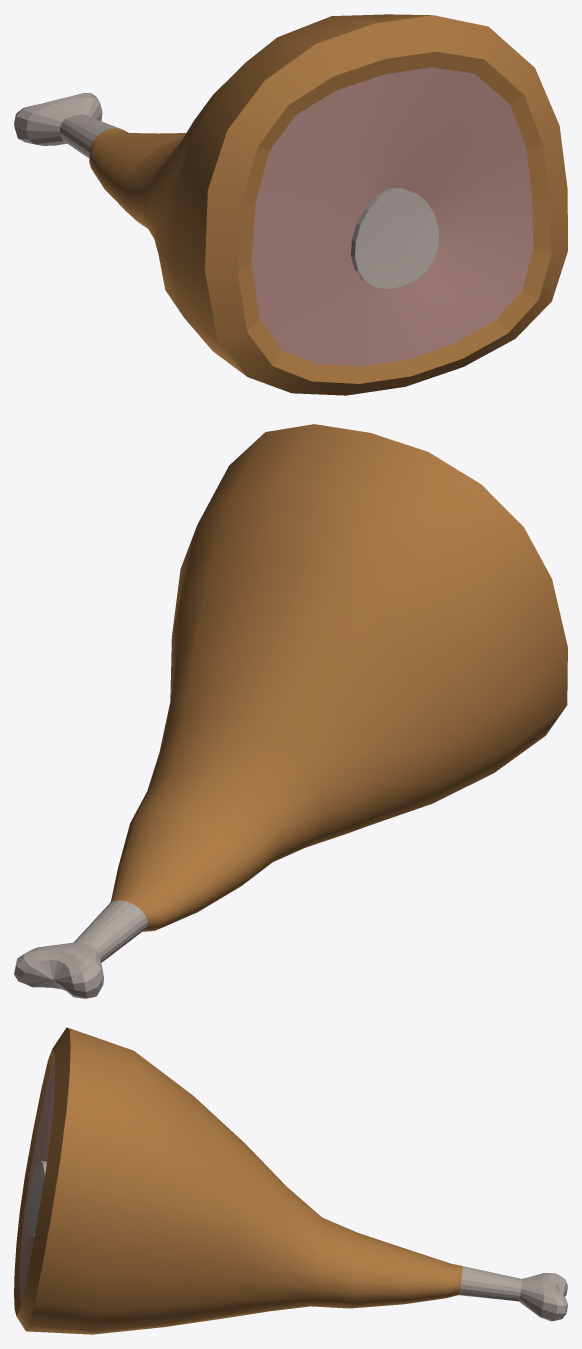
File: Meat.fbx
3 views of the same model, one above another, from view 1: azimuth 30°, elevation 25°; view 2: azimuth 150°, elevation 25°; view 3: azimuth 270°, elevation 25° (orthographic). The views are drawn at different scales.
Visible parts, largest first — view 1: CuredPork1; view 2: CuredPork1; view 3: CuredPork1.
Boxes of the visible parts, box(x1,y1,x2,y2) form: CuredPork1: box(14, 14, 567, 395); CuredPork1: box(14, 424, 567, 998); CuredPork1: box(14, 1027, 567, 1334).
Size of the model in its own units: 189 by 174 by 332.
